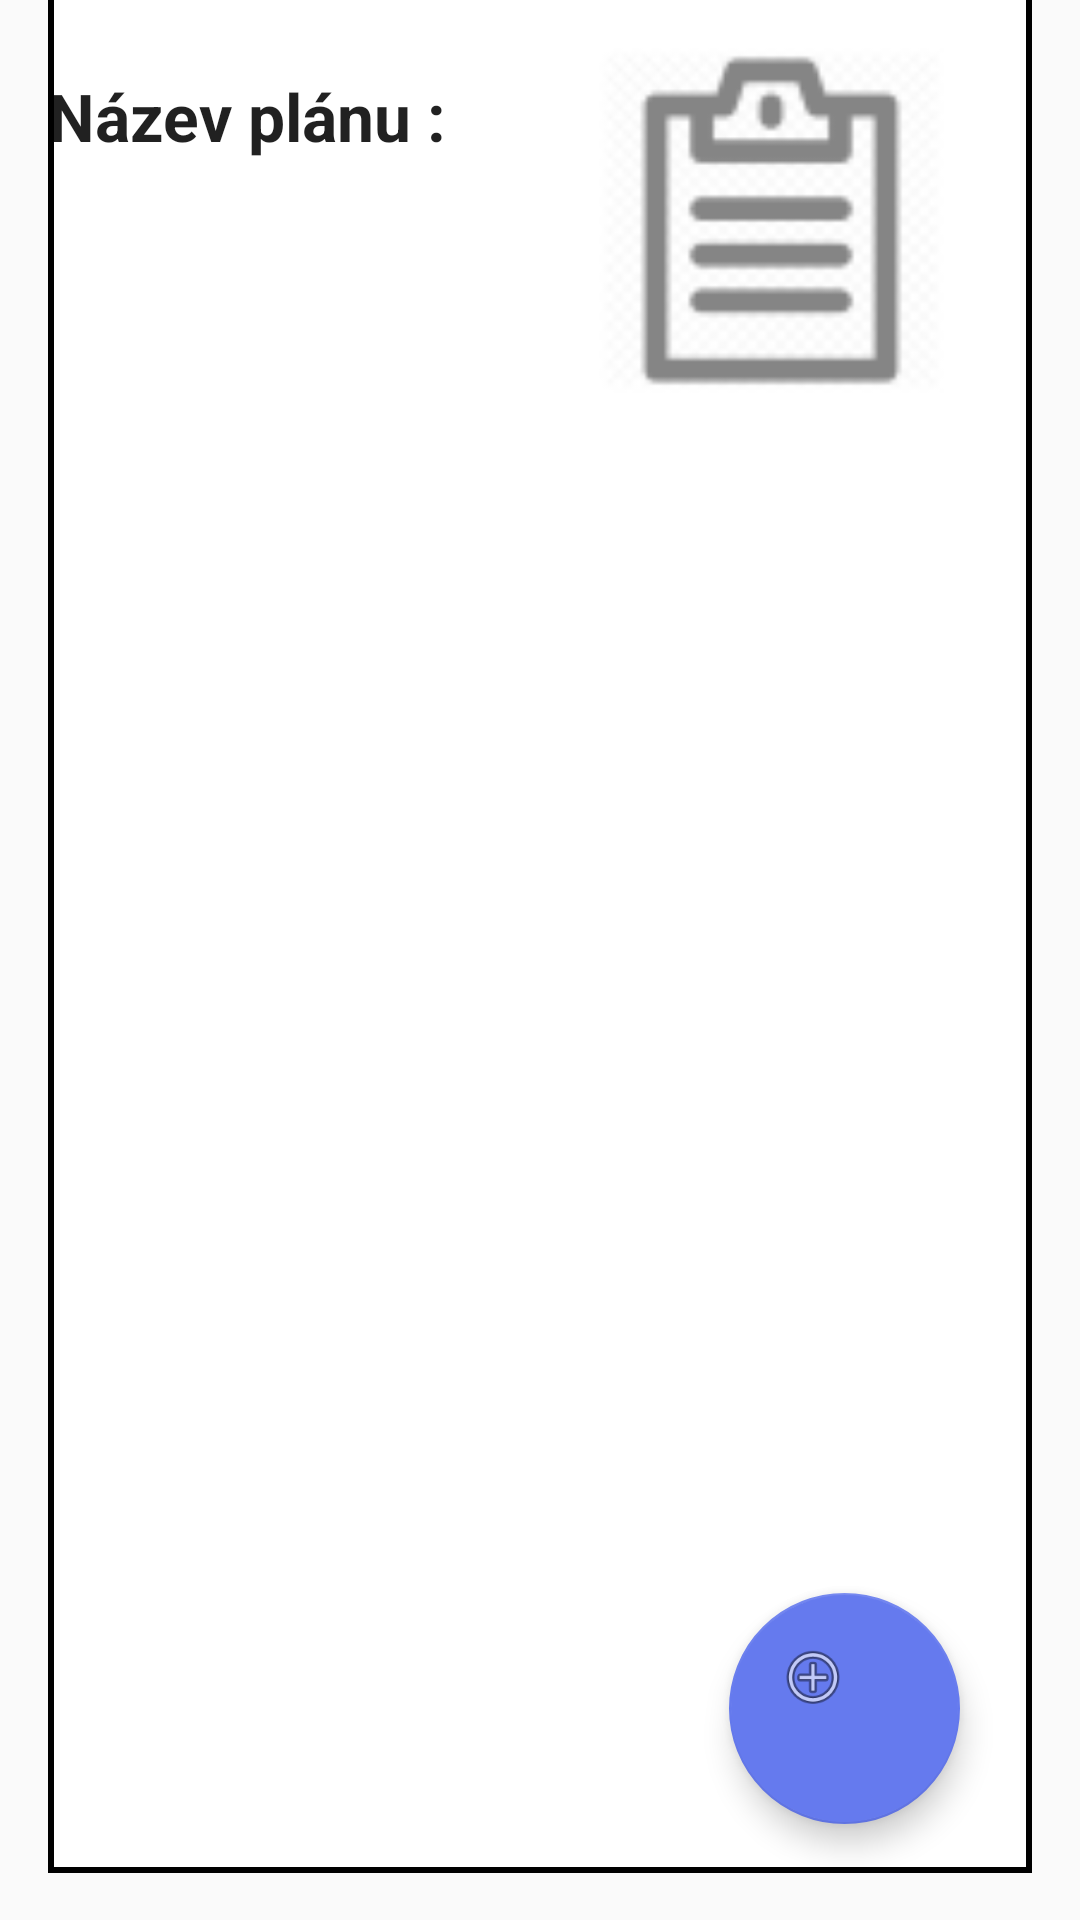

Icons on this 1080 x 1920 Android screen, each with the point to tap as point (x, y):
add: point (844, 1708)
